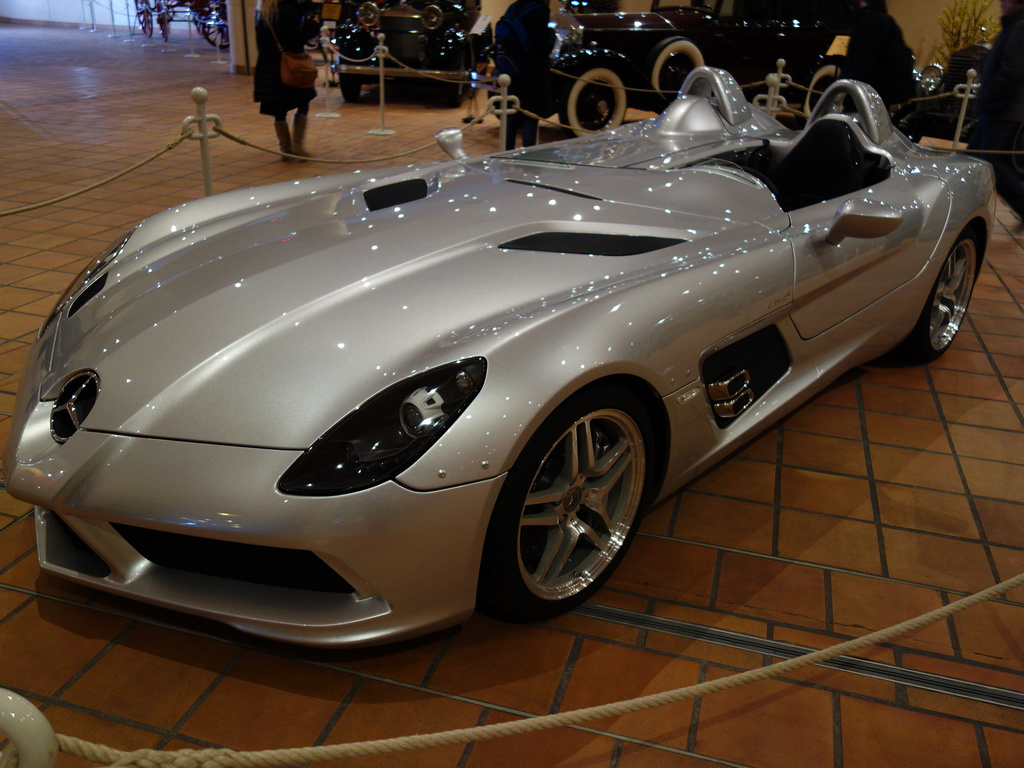Car: (0, 63, 996, 648), (555, 0, 918, 136), (336, 0, 492, 104), (917, 24, 996, 143)
